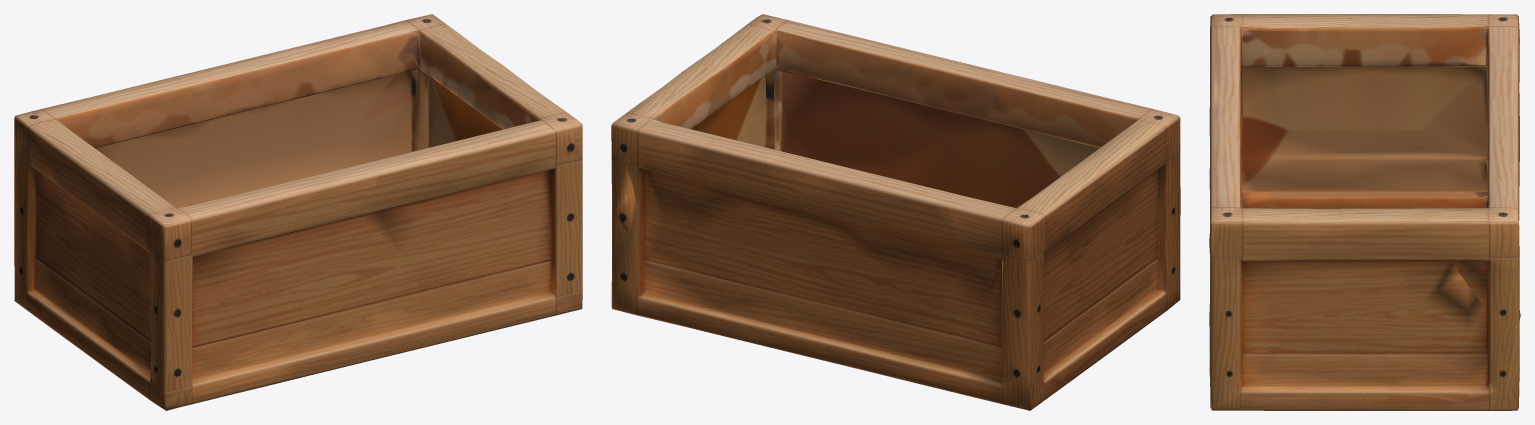
3 views of the same model, side by side, from view 1: azimuth 30°, elevation 25°; view 2: azimuth 150°, elevation 25°; view 3: azimuth 270°, elevation 25° (orthographic).
Parts seen in each view (by area): view 1: material_0; view 2: material_0; view 3: material_0.
Part boxes in pixels (x1,y1,x2,y2): material_0: [14, 14, 582, 410]; material_0: [611, 14, 1180, 410]; material_0: [1209, 14, 1520, 410].
Bounding box in the file's own units: 100 × 42.78 × 63.
1 material, 1 textured.
